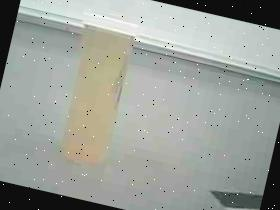Bottle A: (62, 14, 137, 164)
